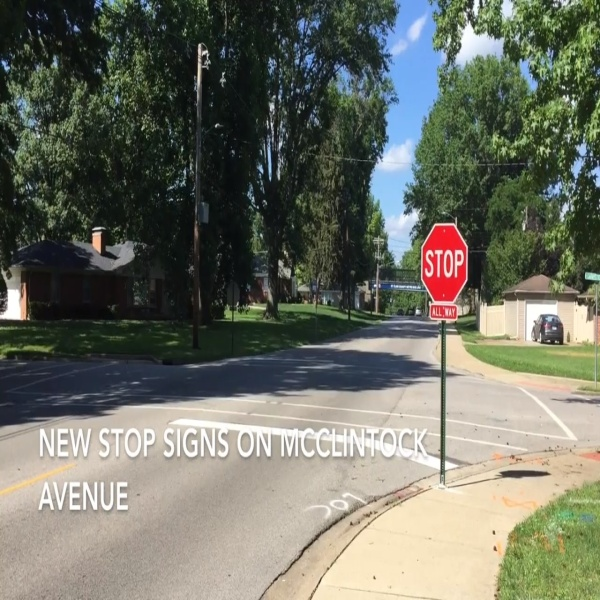stop: (416, 221, 478, 307)
